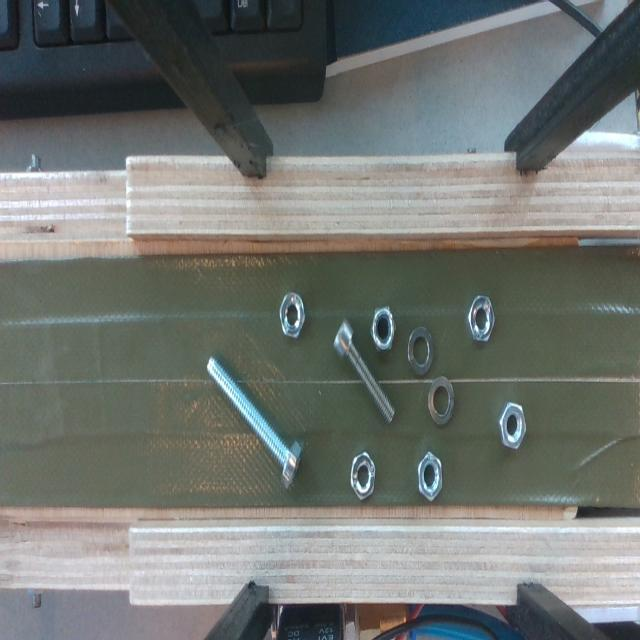Bolt: (202, 352, 310, 488), (328, 316, 398, 427)
Nut: (413, 446, 448, 502), (498, 398, 531, 454), (349, 448, 380, 502), (280, 288, 308, 344), (468, 295, 498, 345), (368, 305, 398, 354)
Washer: (402, 322, 438, 378), (422, 373, 458, 427)
